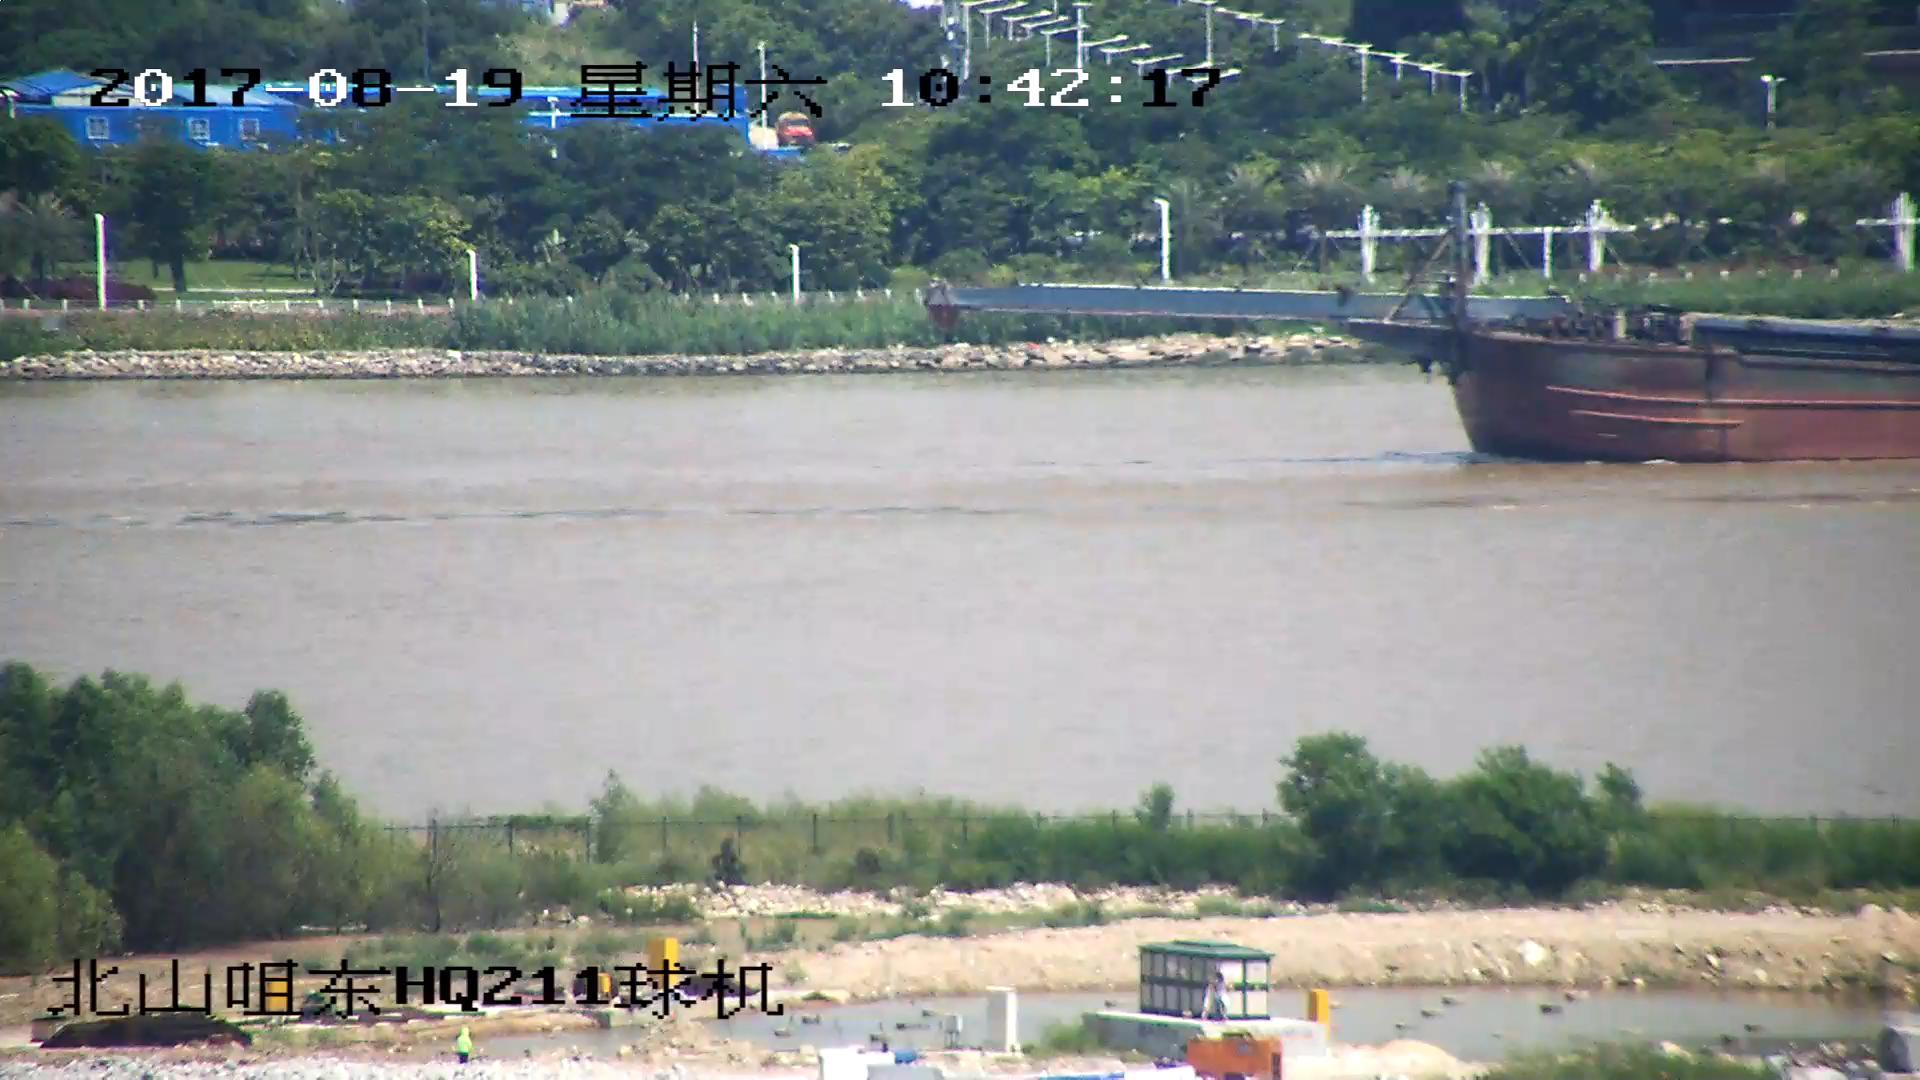Ship: (931, 210, 1920, 467)
